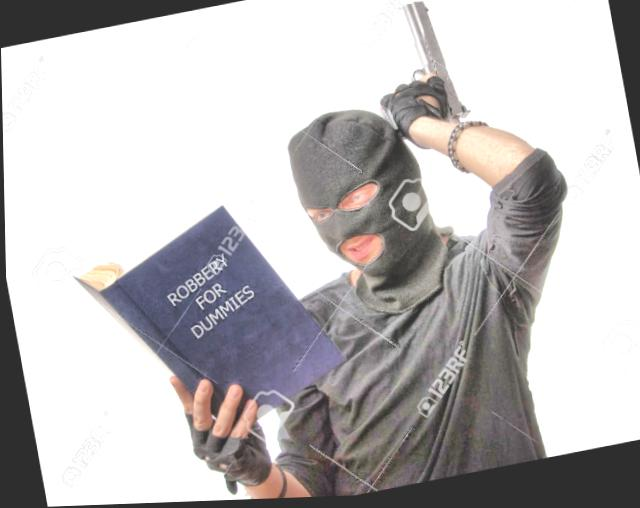pistol: (361, 0, 470, 144)
